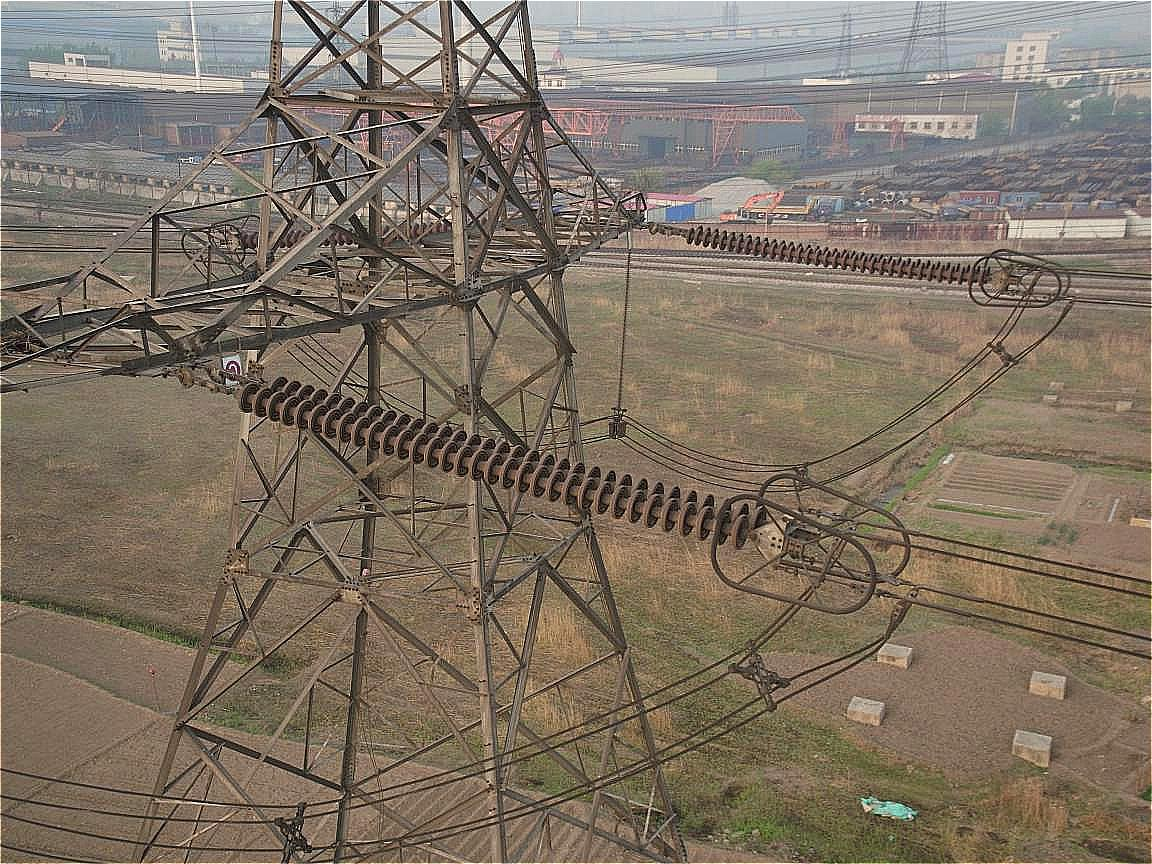insultor1: (233, 371, 761, 568), (681, 220, 1009, 294)
